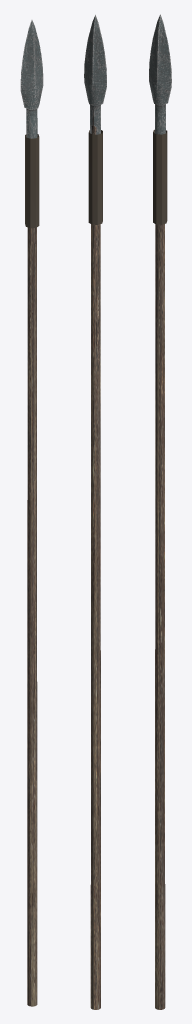
Rendered from Speer_LOD2.dae.
3 views of the same model, side by side, from view 1: azimuth 30°, elevation 25°; view 2: azimuth 150°, elevation 25°; view 3: azimuth 330°, elevation 25° (orthographic).
Parts seen in each view (by area): view 1: Speer_LOD2; view 2: Speer_LOD2; view 3: Speer_LOD2.
Boxes of the visible parts, x1,y1,x2,y2 form: Speer_LOD2: [20, 20, 43, 1006]; Speer_LOD2: [84, 15, 106, 1009]; Speer_LOD2: [149, 14, 171, 1009].
Size of the model in its own units: 0.0532 by 0.0296 by 2.2.
1 material, 1 textured.
